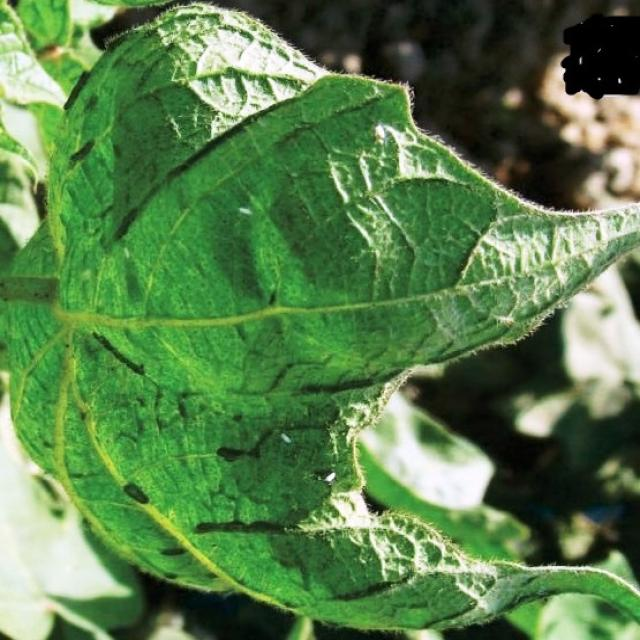Leaf Curl Virus: (66, 85, 412, 627)
